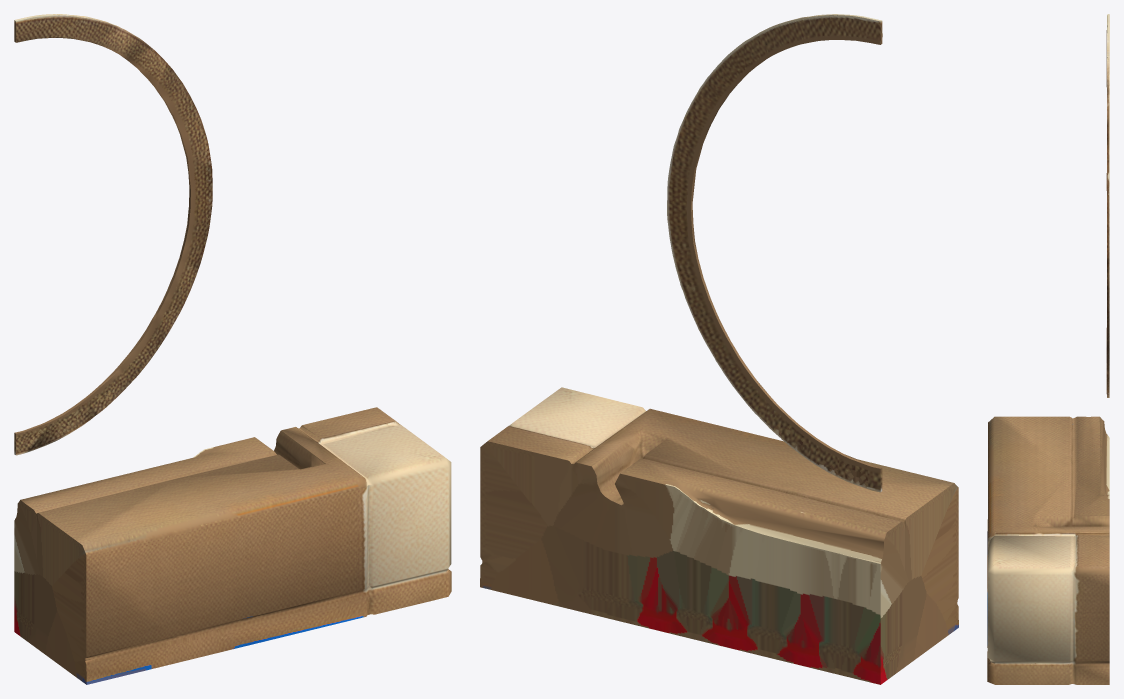
Rendered from 14-topper-front-right.fbx.
3 views of the same model, side by side, from view 1: azimuth 30°, elevation 25°; view 2: azimuth 150°, elevation 25°; view 3: azimuth 270°, elevation 25° (orthographic). The views are drawn at different scales.
Parts seen in each view (by area): view 1: topper-front-right; view 2: topper-front-right; view 3: topper-front-right.
Boxes of the visible parts, left/top/right/bottom form: topper-front-right: left=14, top=14, right=451, bottom=684; topper-front-right: left=480, top=14, right=958, bottom=684; topper-front-right: left=987, top=14, right=1109, bottom=684.
Bounding box in the file's own units: 5041 × 7978 × 1711.
Materials: 1 (1 with a texture image).
